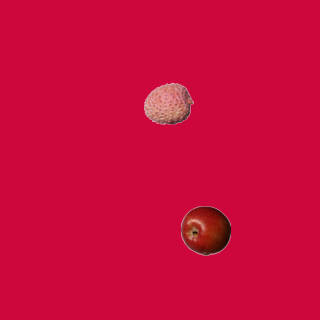Apple Braeburn: (180, 205, 230, 255)
Lychee: (143, 78, 193, 128)
